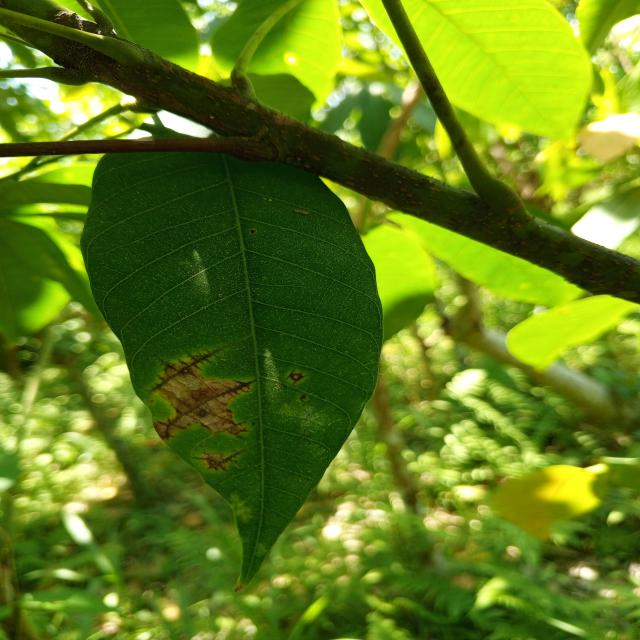Colletotrichum: (251, 230, 256, 233)
Corynespora: (151, 347, 222, 391), (191, 450, 243, 471), (158, 408, 186, 441), (216, 379, 256, 397), (286, 368, 307, 384)
Leaf-Blight: (160, 362, 246, 434)
